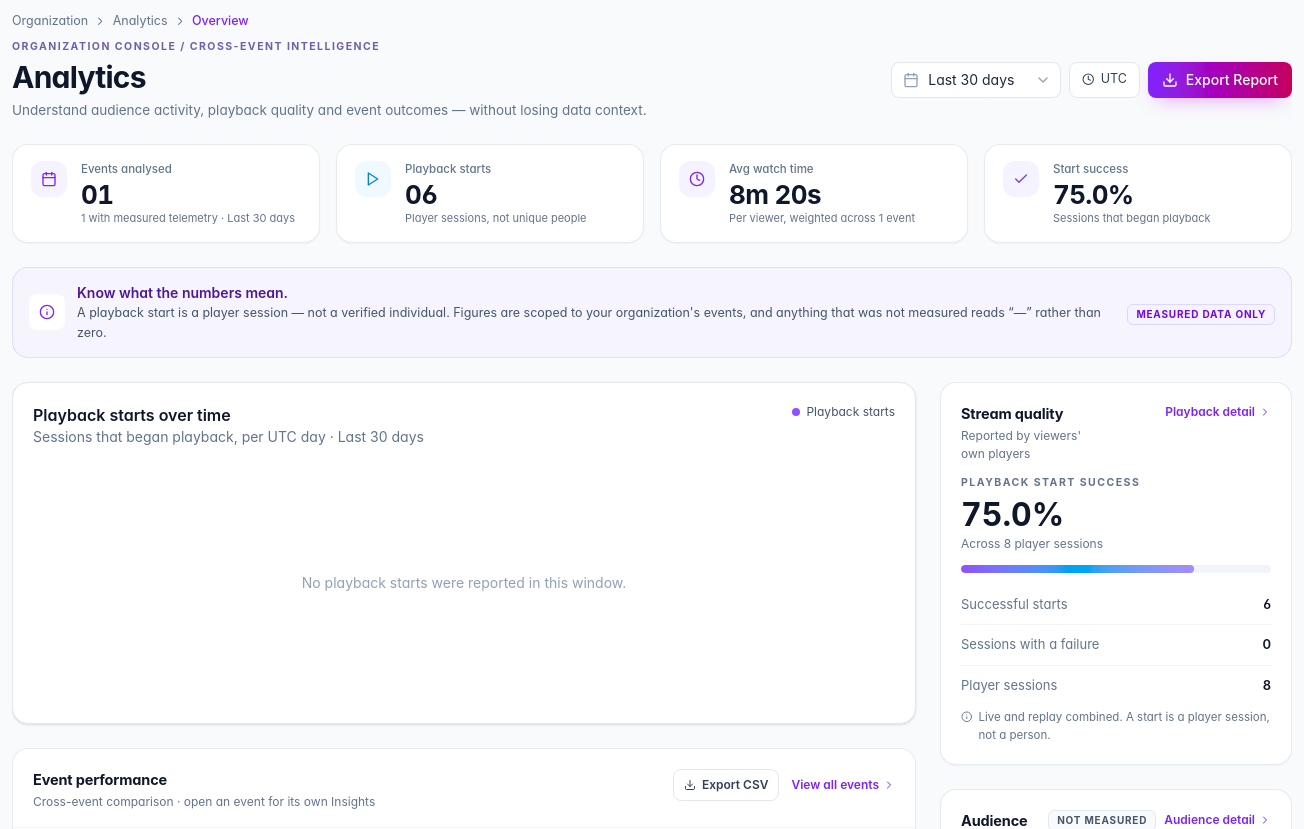
Test: playback starts over time › says so when nothing started, and when the range is beyond the player reports
Expected: the text "No playback starts were reported in this window." is shown, [302,574,626,591]
Select "Last 12 months" in the dropdown named "Date range" at (976, 80), box [891,62,1061,98]
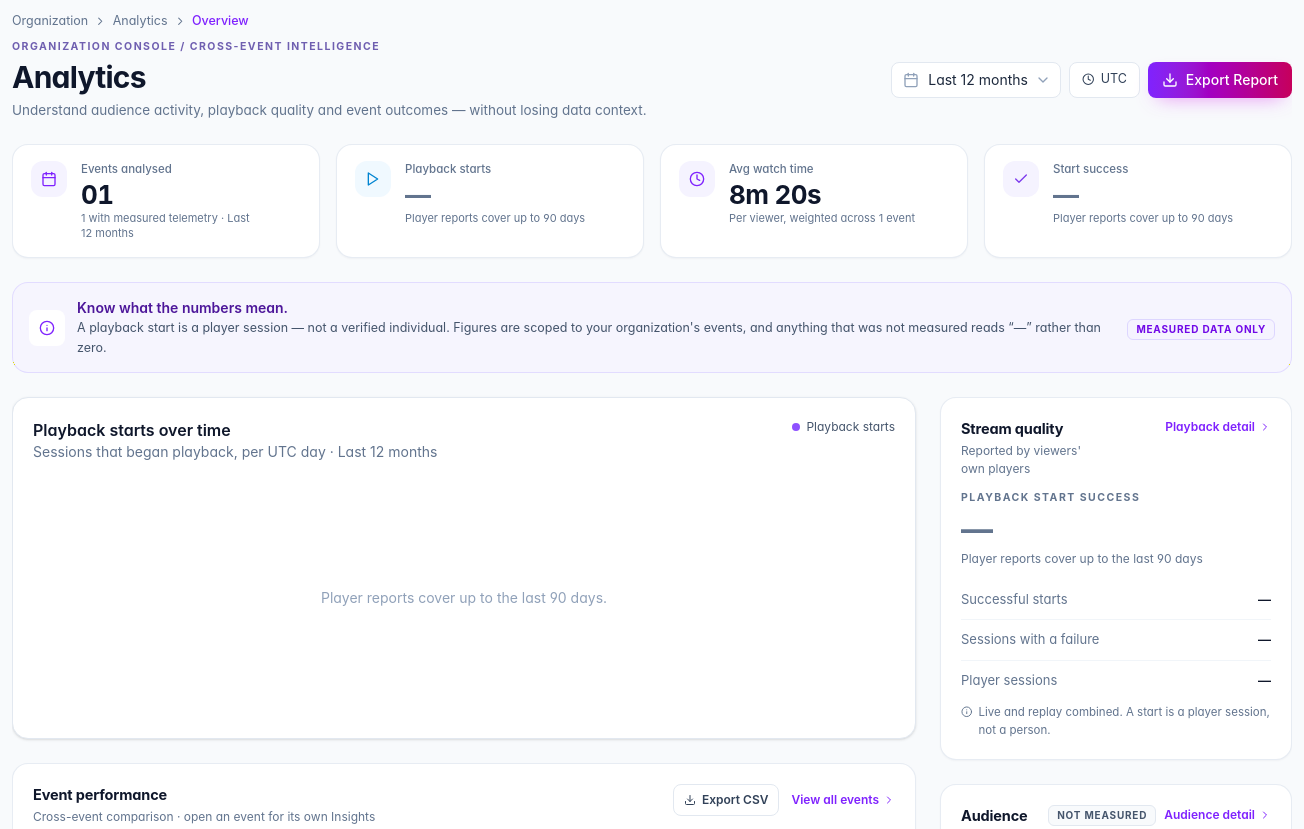
Expected: the text "Player reports cover up to the last 90 days." is shown, [321,589,607,606]
